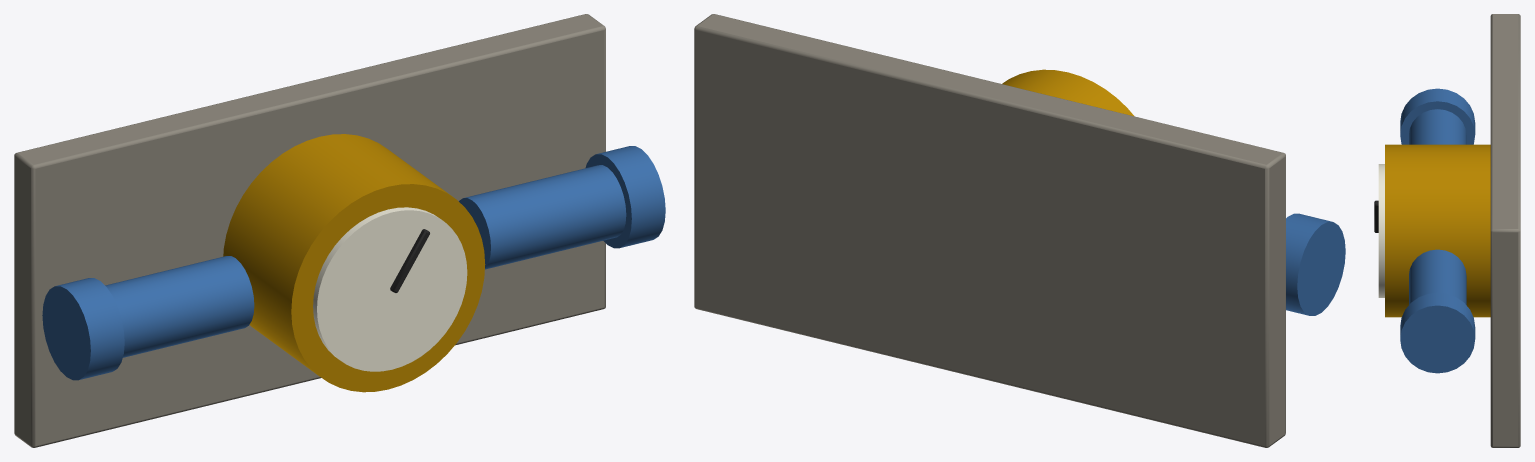
File: DongHoNuoc_HopCong.glb
The picture shows the model from 3 angles, left to right: view 1: azimuth 30°, elevation 25°; view 2: azimuth 150°, elevation 25°; view 3: azimuth 270°, elevation 25°; orthographic projection. The views are drawn at different scales.
Parts seen in each view (by area): view 1: DongHoNuoc_HopCong; view 2: DongHoNuoc_HopCong; view 3: DongHoNuoc_HopCong.
Boxes of the visible parts, bbox=[...] form: DongHoNuoc_HopCong: bbox=[14, 14, 665, 447]; DongHoNuoc_HopCong: bbox=[694, 14, 1345, 447]; DongHoNuoc_HopCong: bbox=[1374, 14, 1520, 447].
Bounding box in the file's own units: 0.34 × 0.16 × 0.097.
